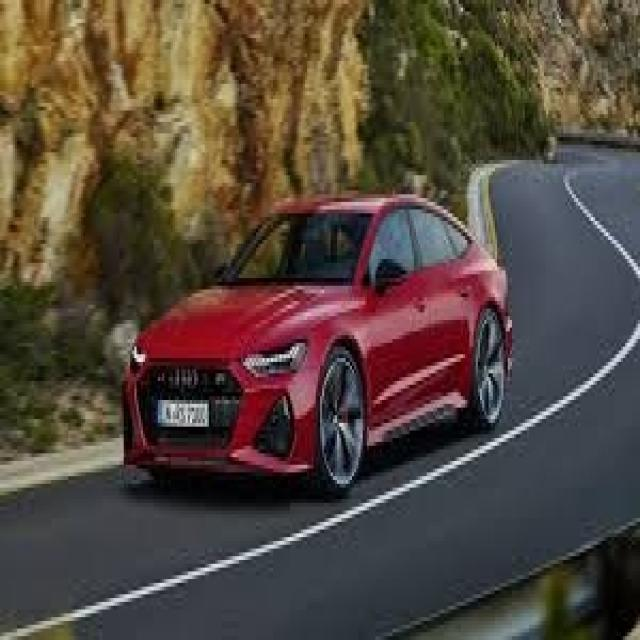red: (123, 189, 513, 509)
